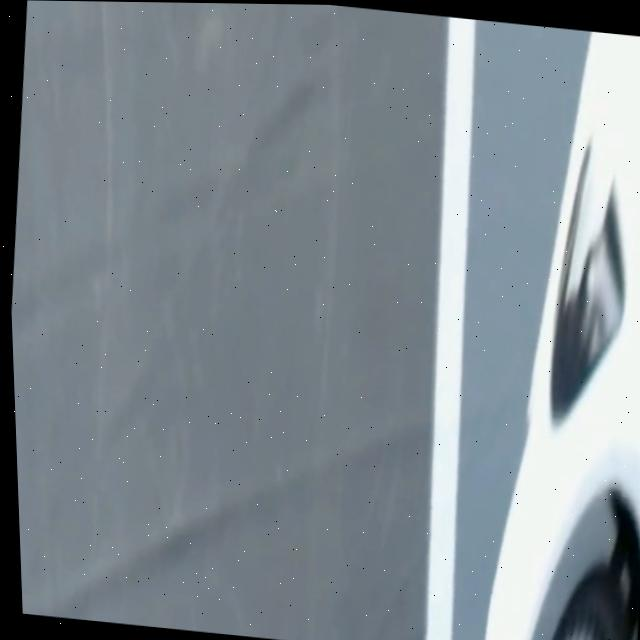left: (426, 17, 476, 640)
